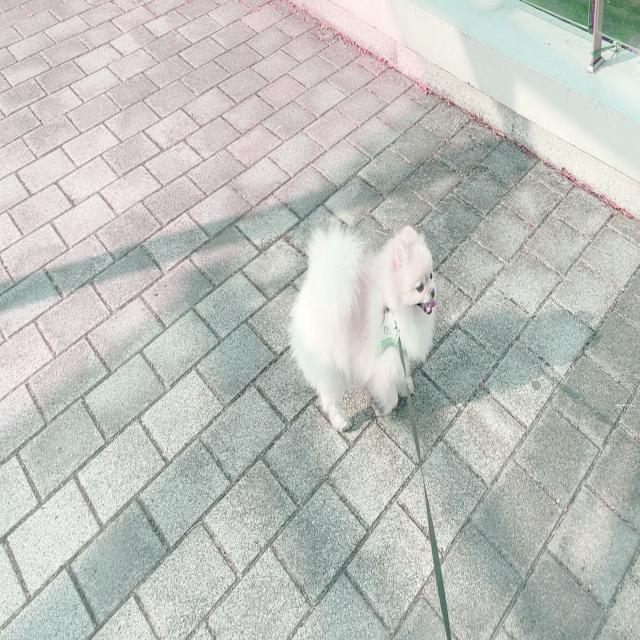Dog: (285, 220, 438, 432)
